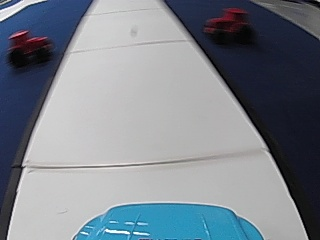tractor: (6, 28, 52, 67), (204, 6, 249, 45)
